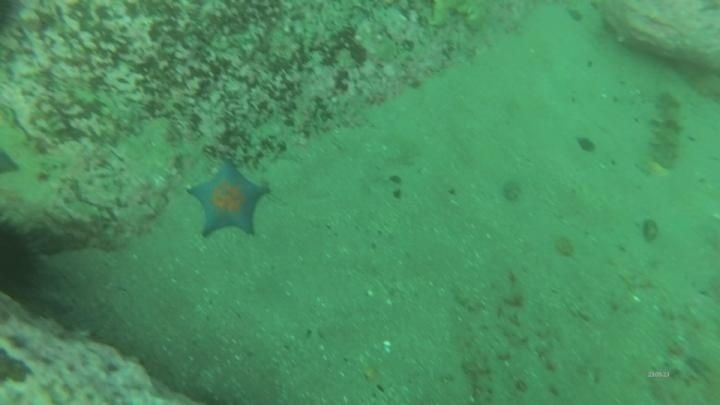echinus: (1, 213, 52, 299)
holothurian: (645, 88, 688, 174), (428, 1, 493, 33)
starfish: (185, 158, 272, 240)
